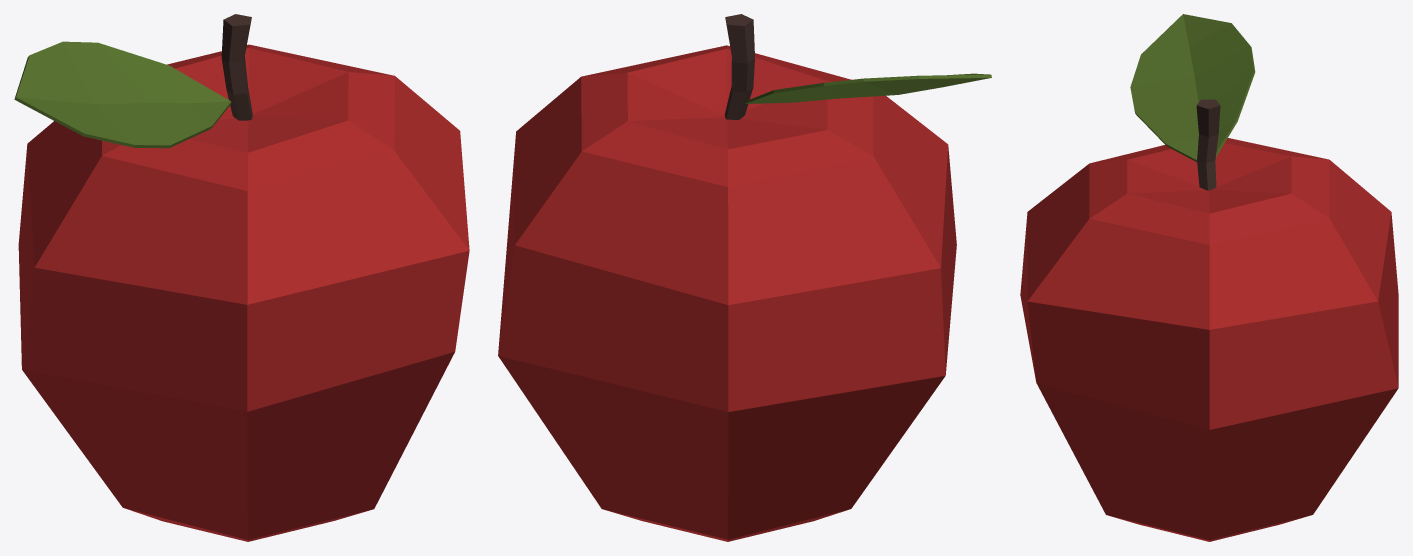
Rendered from Apple.fbx.
The picture shows the model from 3 angles, left to right: view 1: azimuth 30°, elevation 25°; view 2: azimuth 150°, elevation 25°; view 3: azimuth 270°, elevation 25°; orthographic projection. The views are drawn at different scales.
Visible parts, largest first — view 1: Apple; view 2: Apple; view 3: Apple.
Part boxes in pixels (left/top/right/bottom): Apple: left=14, top=14, right=469, bottom=541; Apple: left=498, top=14, right=991, bottom=541; Apple: left=1020, top=14, right=1398, bottom=541.
Bounding box in the file's own units: 0.3286 × 0.3252 × 0.2779.
